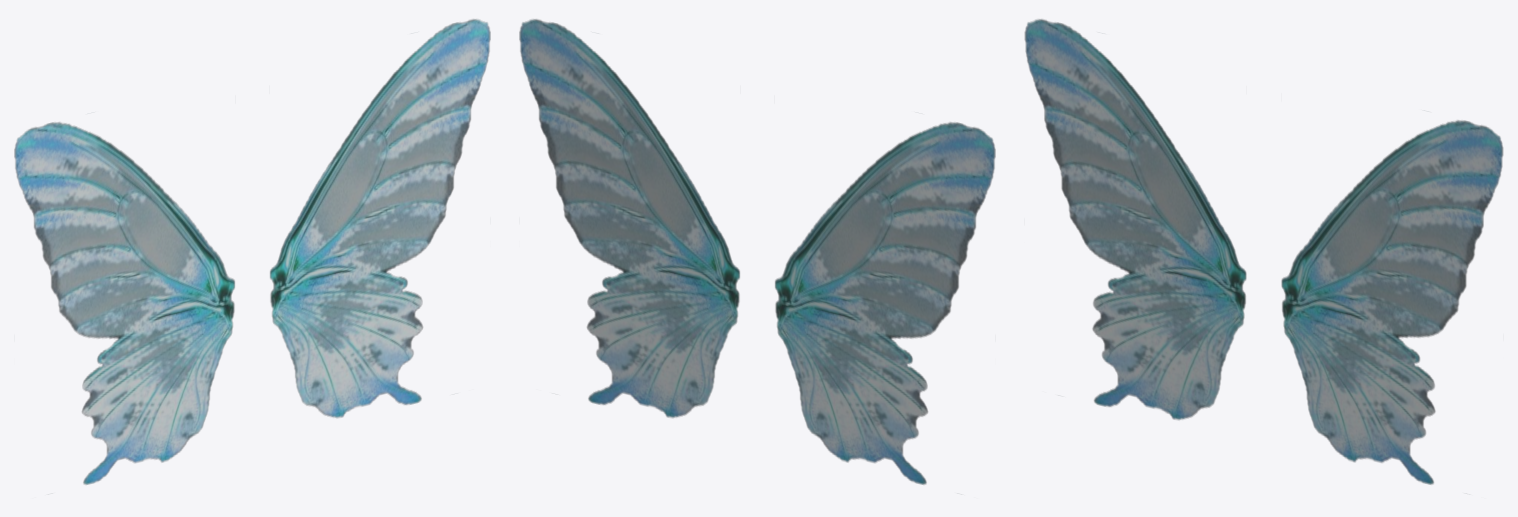
File: butterfly.glb
3 views of the same model, side by side, from view 1: azimuth 30°, elevation 25°; view 2: azimuth 150°, elevation 25°; view 3: azimuth 330°, elevation 25° (orthographic).
Parts seen in each view (by area): view 1: Object_5, Object_7; view 2: Object_5, Object_7; view 3: Object_5, Object_7.
Boxes of the visible parts, x1,y1,x2,y2 form: Object_5: [14, 122, 234, 484]; Object_7: [270, 19, 490, 417]; Object_5: [775, 122, 995, 484]; Object_7: [519, 19, 739, 417]; Object_5: [1025, 19, 1246, 419]; Object_7: [1281, 120, 1502, 484].
Bounding box in the file's own units: 0.5996 × 0.4476 × 0.
Materials: 2 (2 with a texture image).
